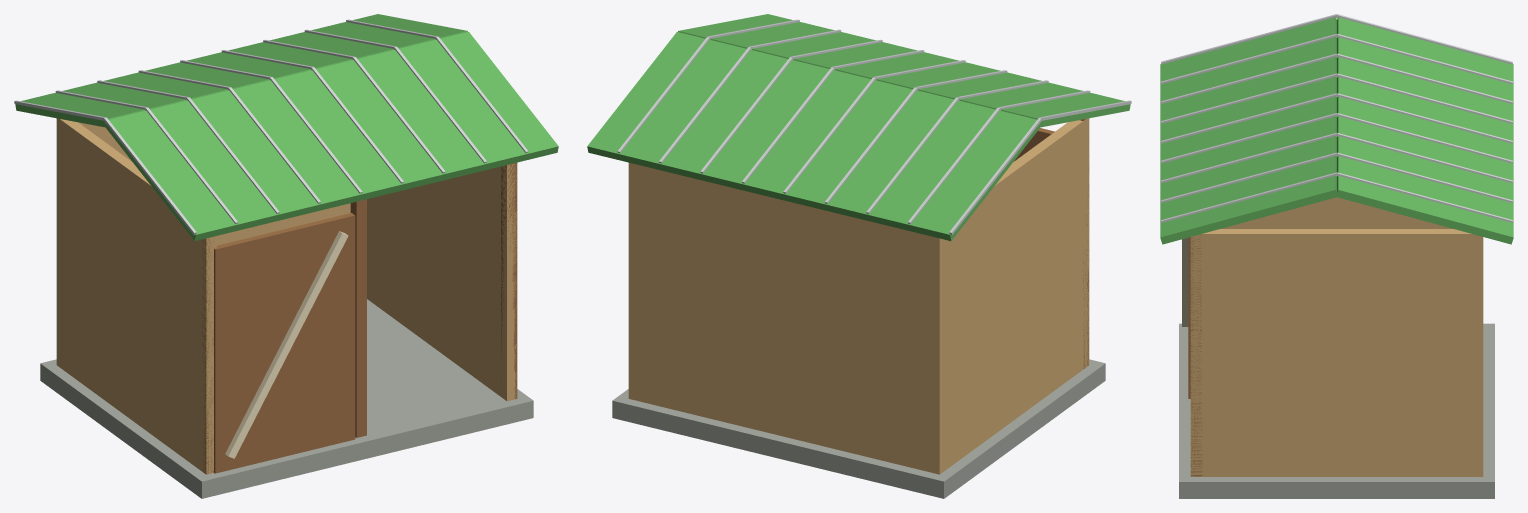
Rendered from TR3_Farm_Storage_Shed.glb.
3 renders of one model, left to right at view 1: azimuth 30°, elevation 25°; view 2: azimuth 150°, elevation 25°; view 3: azimuth 270°, elevation 25°, orthographic. The views are drawn at different scales.
Parts seen in each view (by area): view 1: TR3_Farm_Storage_Shed; view 2: TR3_Farm_Storage_Shed; view 3: TR3_Farm_Storage_Shed.
Part boxes in pixels (x1,y1,x2,y2): TR3_Farm_Storage_Shed: (14,14,558,498); TR3_Farm_Storage_Shed: (587,14,1131,498); TR3_Farm_Storage_Shed: (1160,14,1513,498).
Size of the model in its own units: 3.51 by 3 by 3.02.
